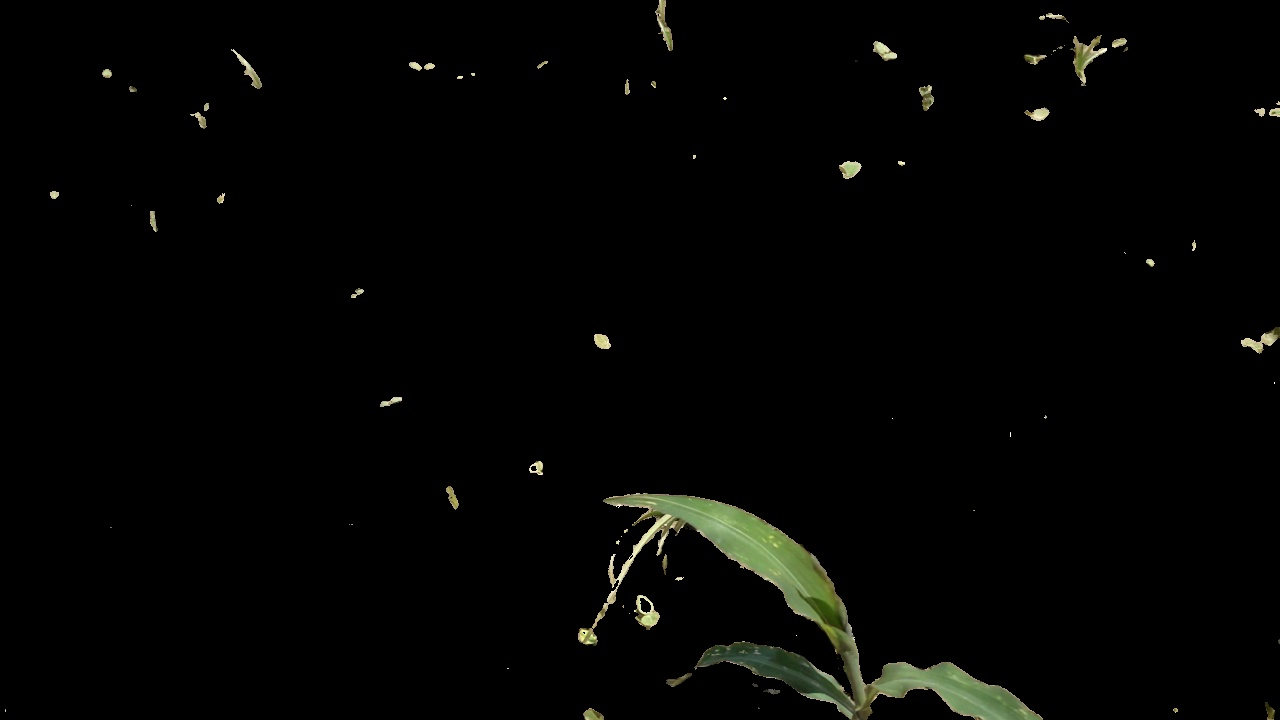crop: (595, 482, 1056, 720)
weed: (1022, 9, 1126, 79), (1241, 318, 1280, 355), (628, 591, 659, 634)
